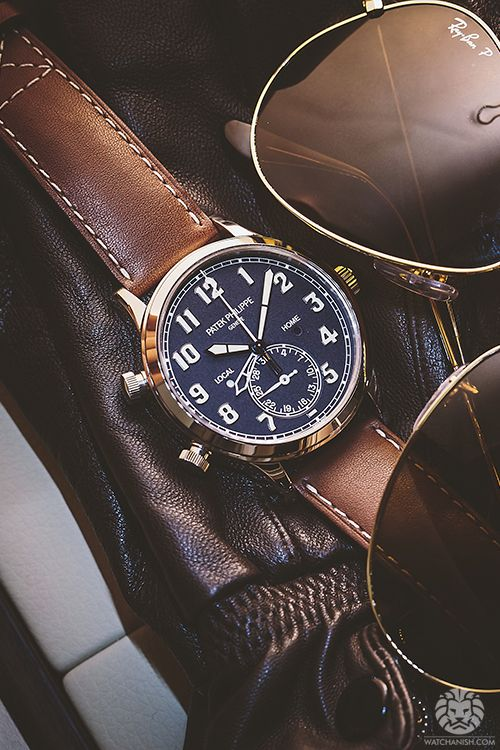clock: (154, 244, 363, 448)
